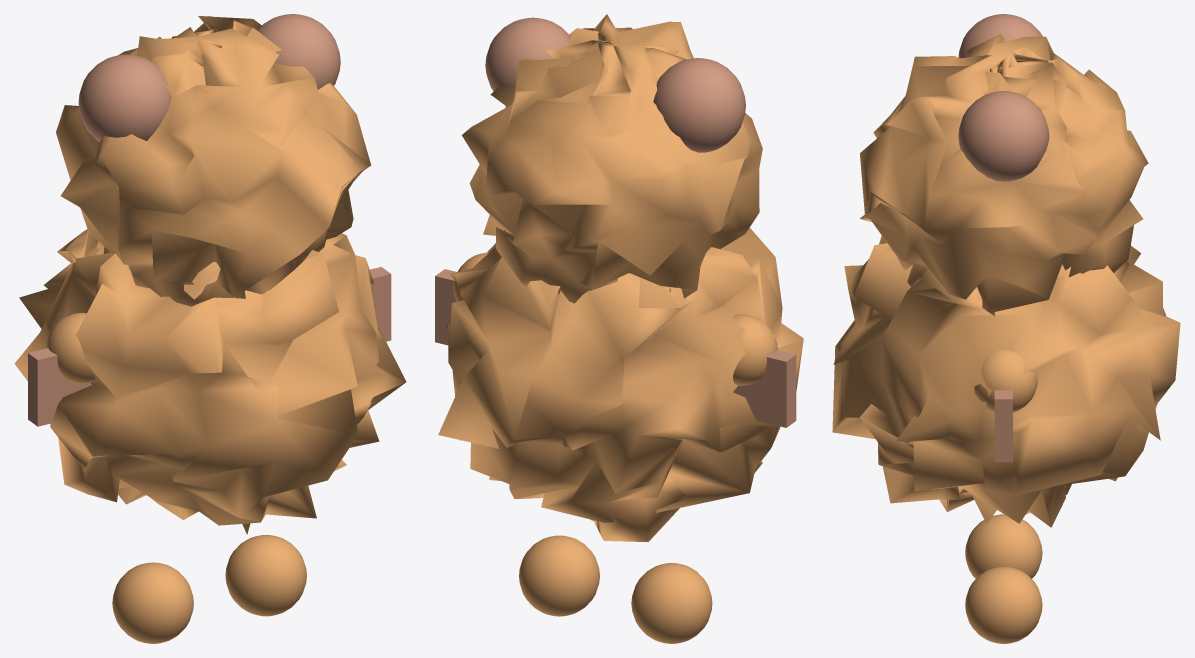
The model's file is clay_bat_cat.glb.
3 renders of one model, left to right at view 1: azimuth 30°, elevation 25°; view 2: azimuth 150°, elevation 25°; view 3: azimuth 270°, elevation 25°, orthographic. The views are drawn at different scales.
Visible parts, largest first — view 1: leg.001; view 2: leg.001; view 3: leg.001.
Part boxes in pixels (x1=…): leg.001: x1=14, y1=14, x2=406, y2=643; leg.001: x1=435, y1=14, x2=803, y2=643; leg.001: x1=832, y1=14, x2=1180, y2=643.
Bounding box in the file's own units: 1.25 × 2.02 × 1.12.
